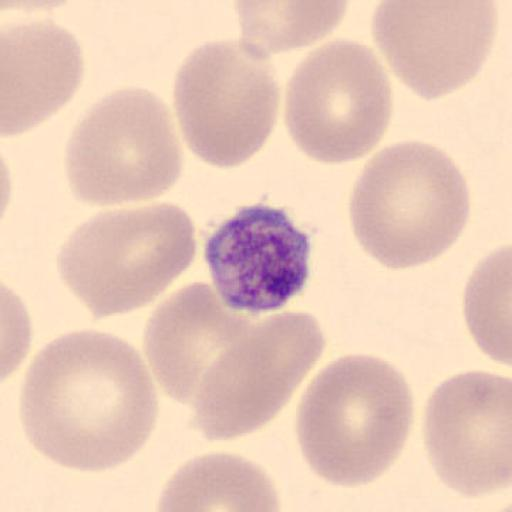Platelet: (202, 200, 316, 318)
RBC: (18, 327, 160, 474), (146, 280, 302, 410), (190, 307, 326, 443), (56, 201, 200, 319), (346, 137, 472, 271), (295, 352, 416, 490), (170, 38, 282, 172), (62, 85, 184, 208), (141, 279, 256, 409), (282, 36, 395, 167), (369, 1, 499, 101), (421, 366, 512, 500), (190, 342, 301, 444), (2, 17, 86, 138), (151, 450, 284, 512), (230, 0, 351, 56), (462, 242, 512, 370), (1, 282, 32, 384), (0, 0, 84, 16), (0, 148, 14, 226)
